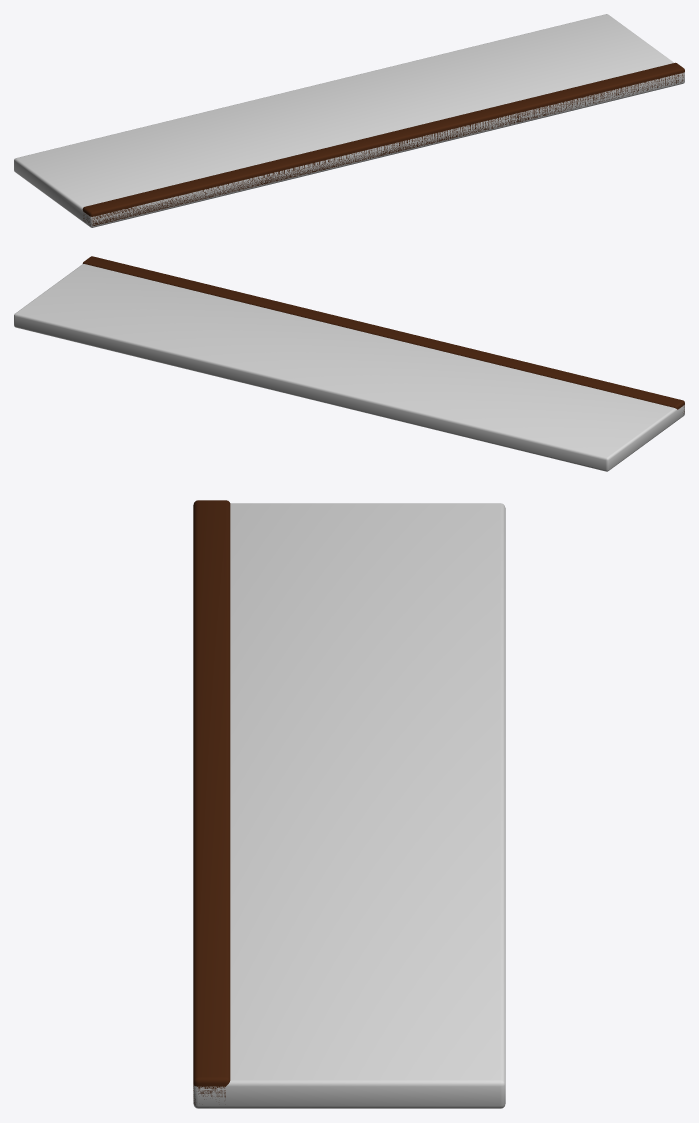
File: roof-plank.obj
The picture shows the model from 3 angles, top to bottom: view 1: azimuth 30°, elevation 25°; view 2: azimuth 150°, elevation 25°; view 3: azimuth 270°, elevation 25°; orthographic projection. The views are drawn at different scales.
Visible parts, largest first — view 1: roof-plank; view 2: roof-plank; view 3: roof-plank.
Boxes of the visible parts, x1=… form: roof-plank: x1=14, y1=14, x2=684, y2=227; roof-plank: x1=14, y1=256, x2=684, y2=471; roof-plank: x1=193, y1=500, x2=505, y2=1108.
Size of the model in its own units: 2.2 by 0.0555 by 0.5.
